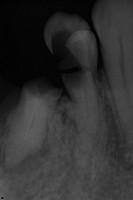Furcation Involvement: (4, 127, 50, 175)
